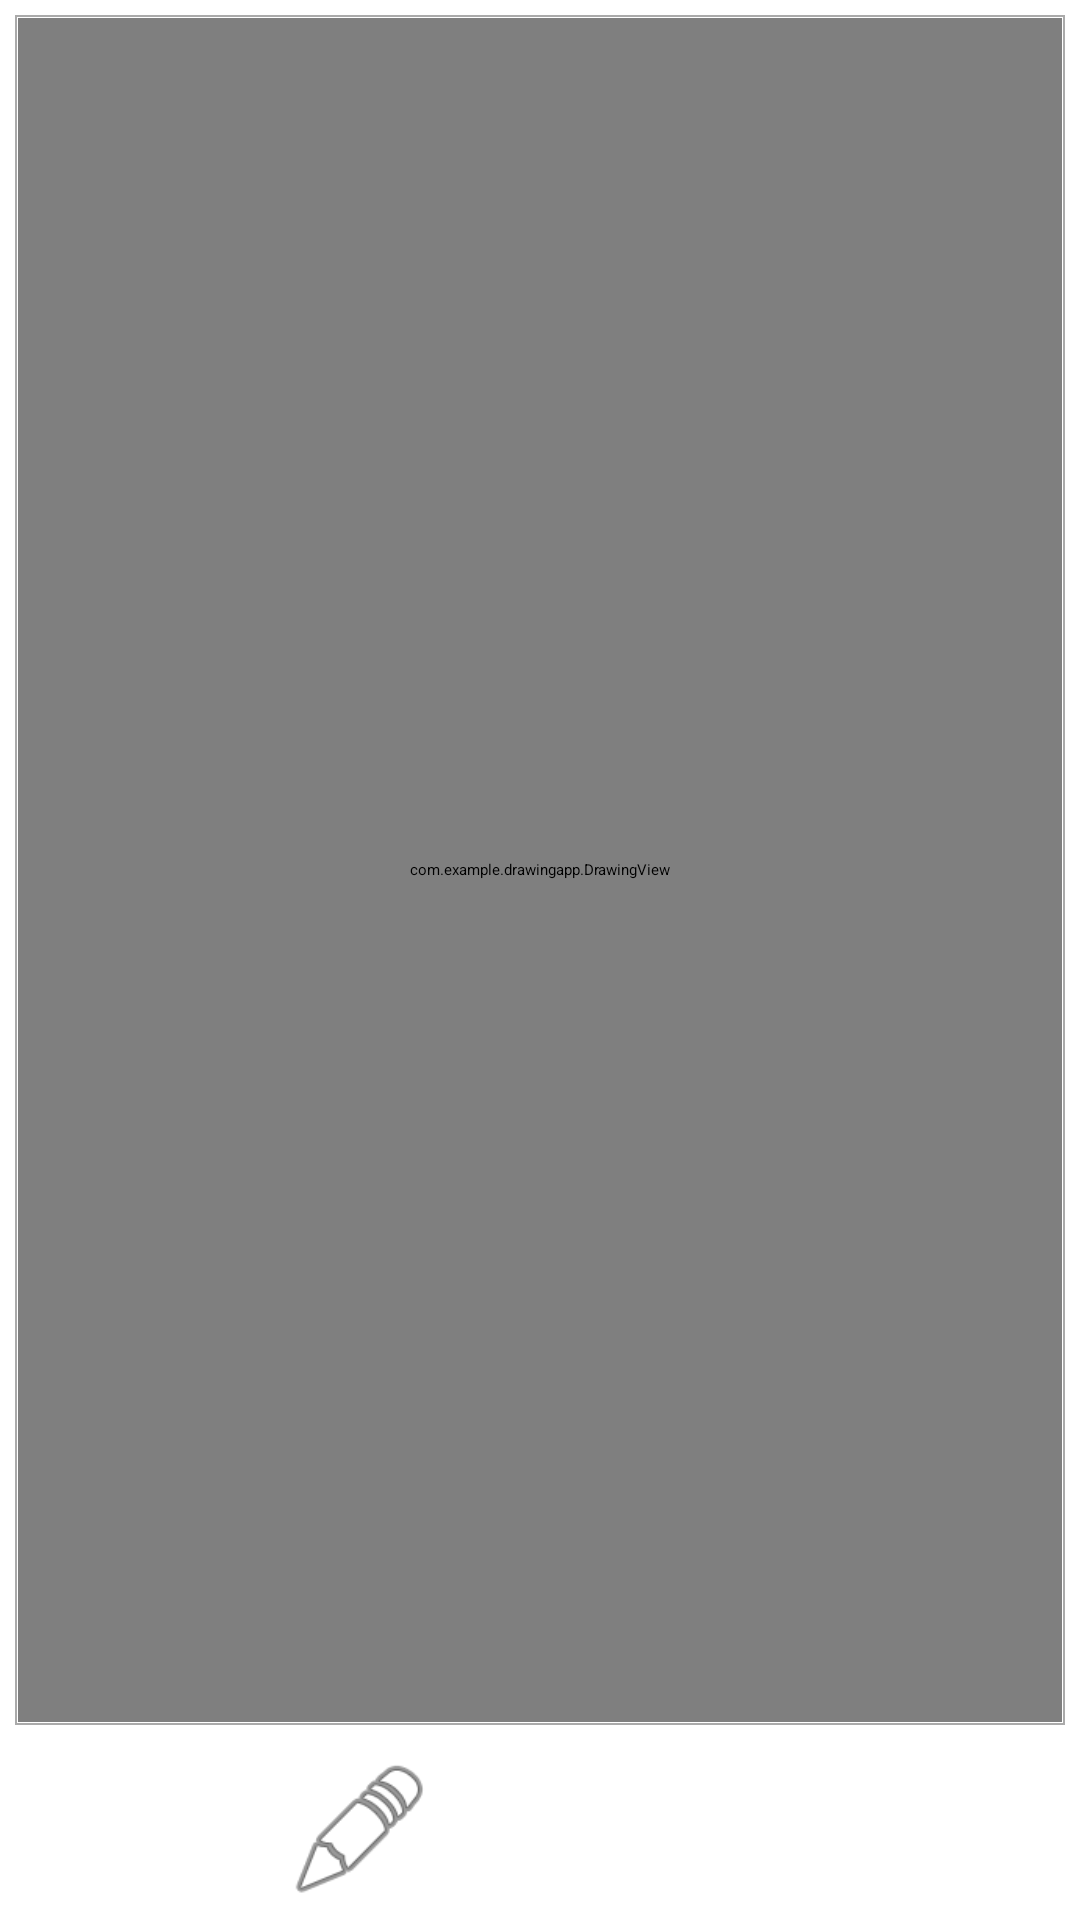

Where to tap for icons on this 1080*1920 app screen, as (x=x, y=y):
edit: (x=359, y=1829)
